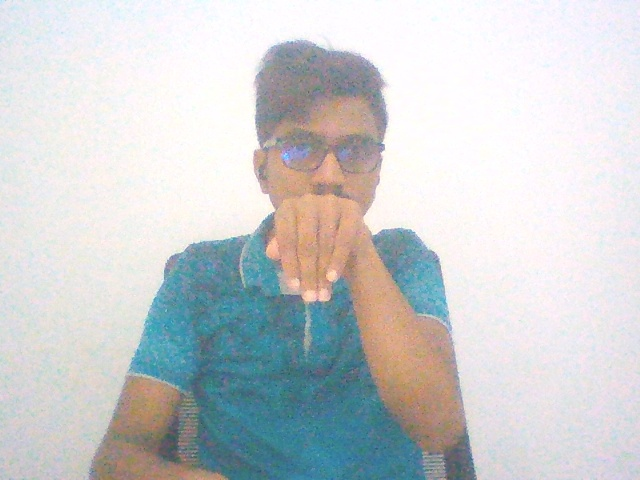Squirrel: (239, 174, 403, 330)
